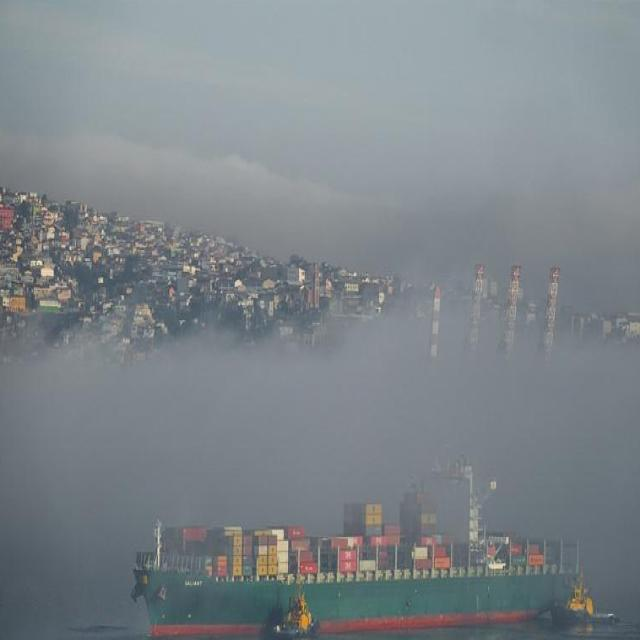cargoship: (132, 446, 590, 640)
houseboat: (546, 567, 622, 629), (262, 582, 315, 640)
